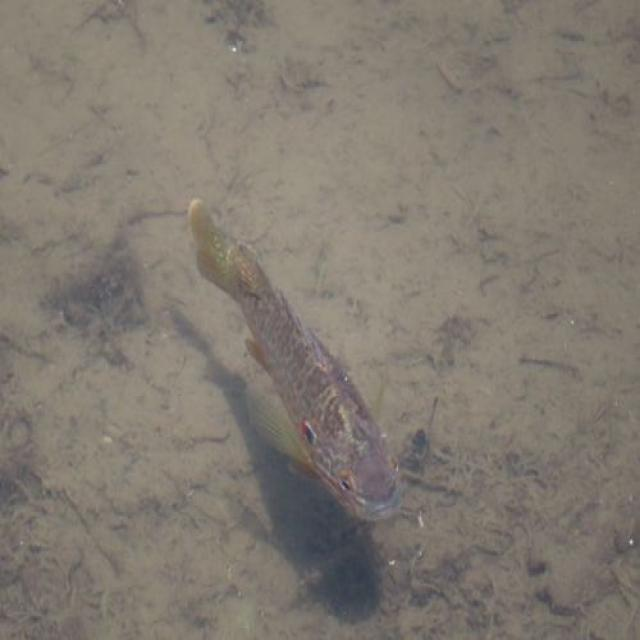Gunes Levregi: (188, 188, 406, 526)
